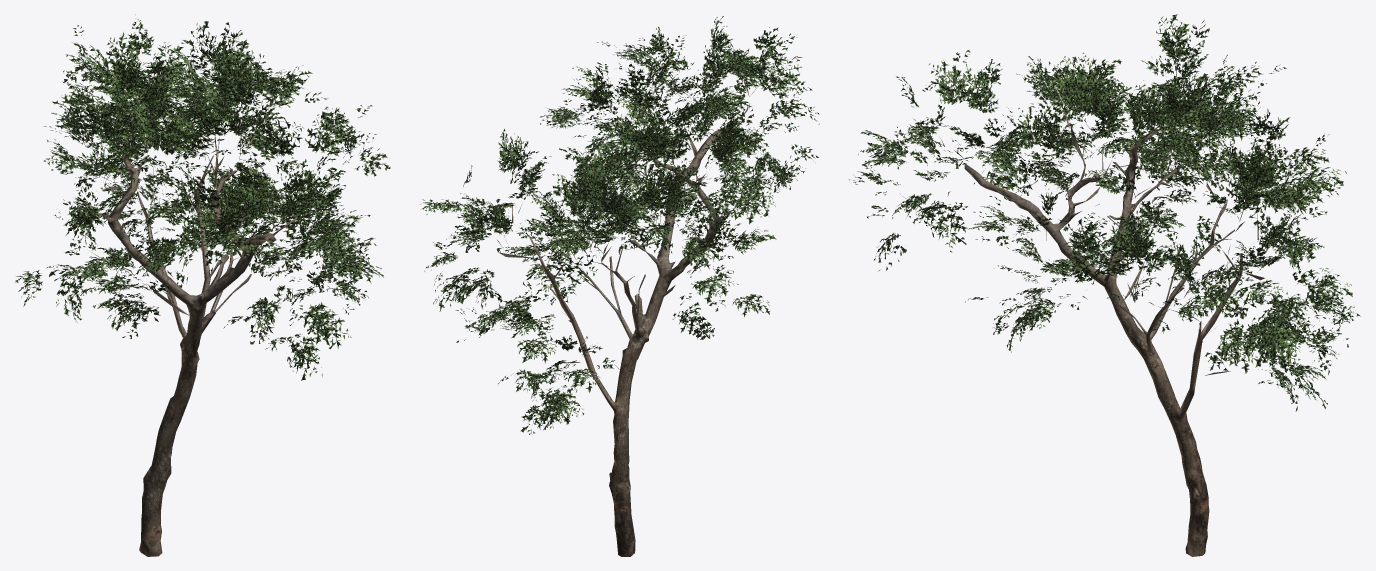
Rendered from tree_small_02.glb.
3 renders of one model, left to right at view 1: azimuth 30°, elevation 25°; view 2: azimuth 150°, elevation 25°; view 3: azimuth 270°, elevation 25°, orthographic. The views are drawn at different scales.
Parts seen in each view (by area): view 1: tree_small_02_LOD0; view 2: tree_small_02_LOD0; view 3: tree_small_02_LOD0.
Part boxes in pixels (<box>): tree_small_02_LOD0: <box>15,14,390,556</box>; tree_small_02_LOD0: <box>420,16,819,556</box>; tree_small_02_LOD0: <box>849,14,1360,556</box>.
Size of the model in its own units: 2.9 by 4.56 by 4.23.
3 materials, 3 textured.
